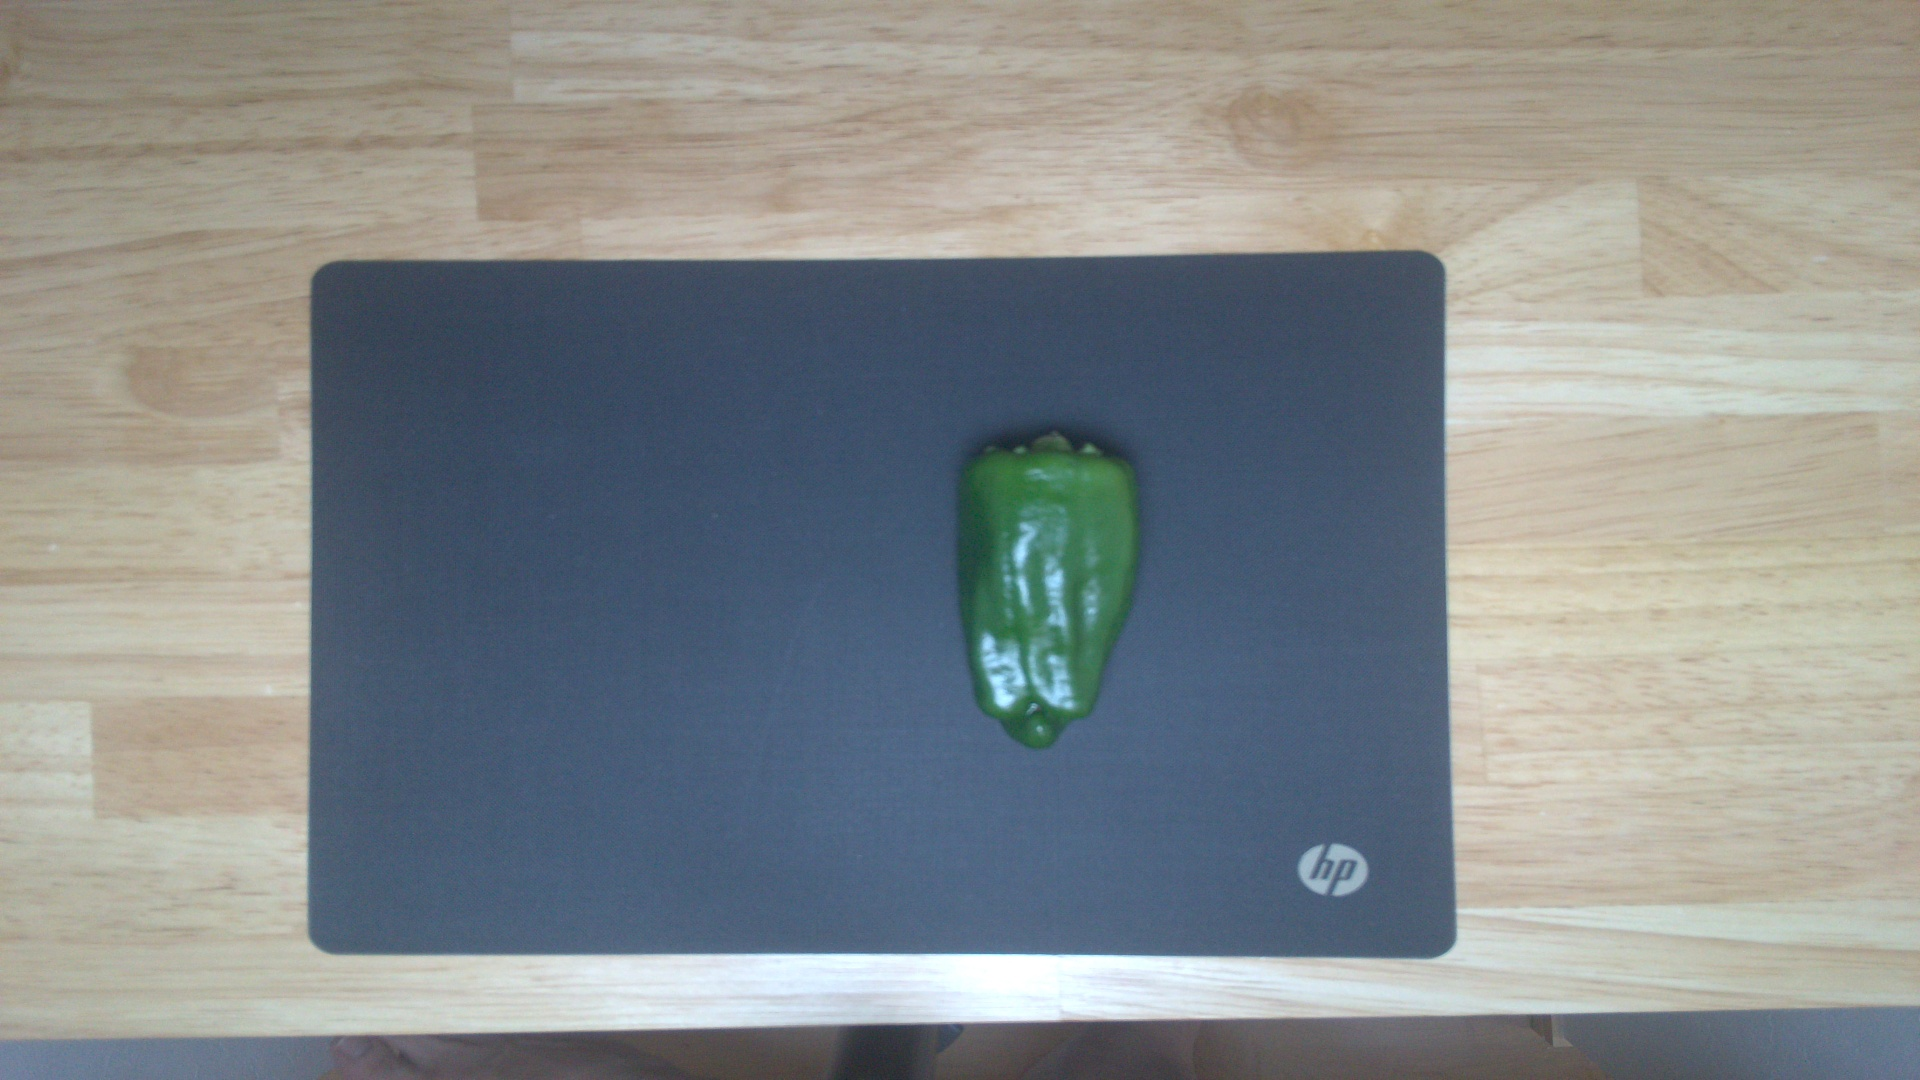Piman: (953, 425, 1143, 754)
